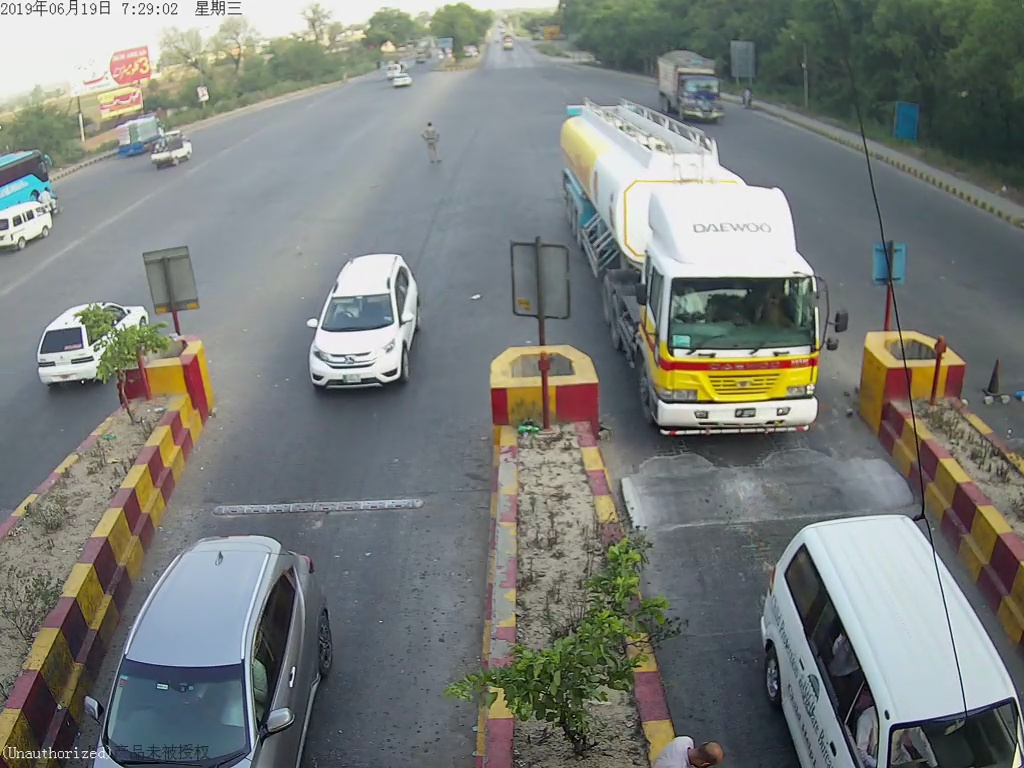Cat-1: (302, 250, 426, 397)
Cat-5: (553, 94, 860, 441)
